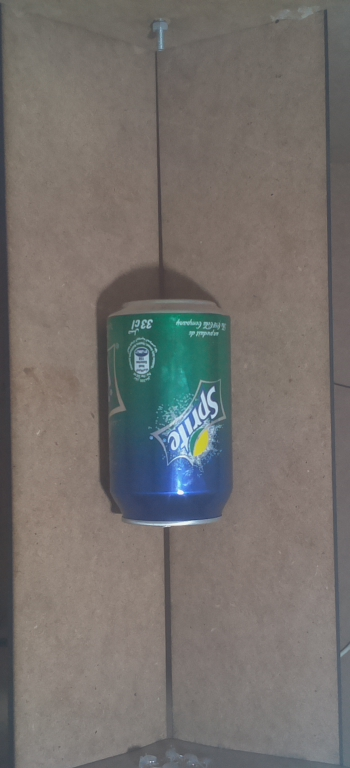Canette: (95, 291, 245, 539)
